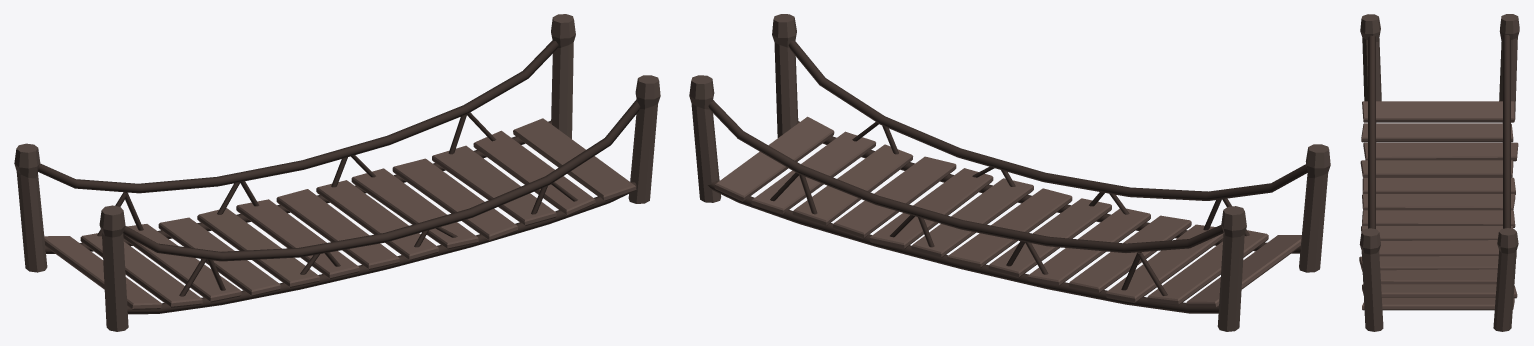
Rendered from bridge_08.glb.
3 renders of one model, left to right at view 1: azimuth 30°, elevation 25°; view 2: azimuth 150°, elevation 25°; view 3: azimuth 270°, elevation 25°, orthographic. The views are drawn at different scales.
Visible parts, largest first — view 1: bridge_08; view 2: bridge_08; view 3: bridge_08.
Boxes of the visible parts, <box> form: bridge_08: <box>14,14,660,331</box>; bridge_08: <box>689,14,1330,331</box>; bridge_08: <box>1359,14,1519,331</box>.
Size of the model in its own units: 6.99 by 1.51 by 2.12.
1 material, 1 textured.
